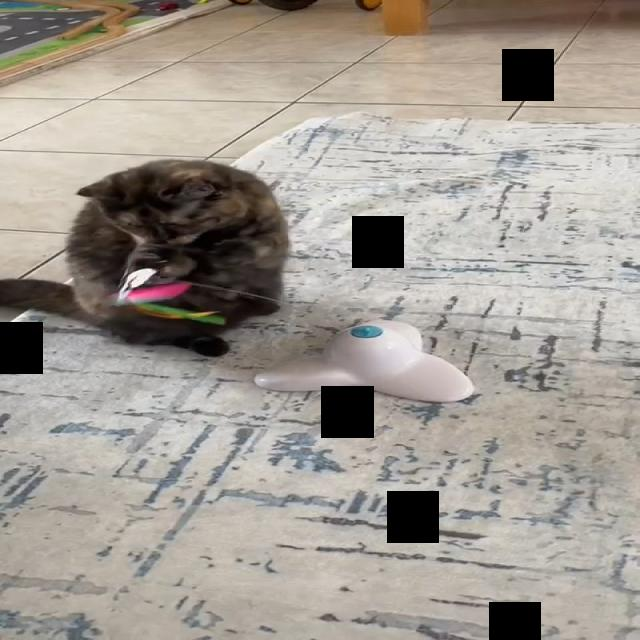authorized: (0, 158, 289, 357)
